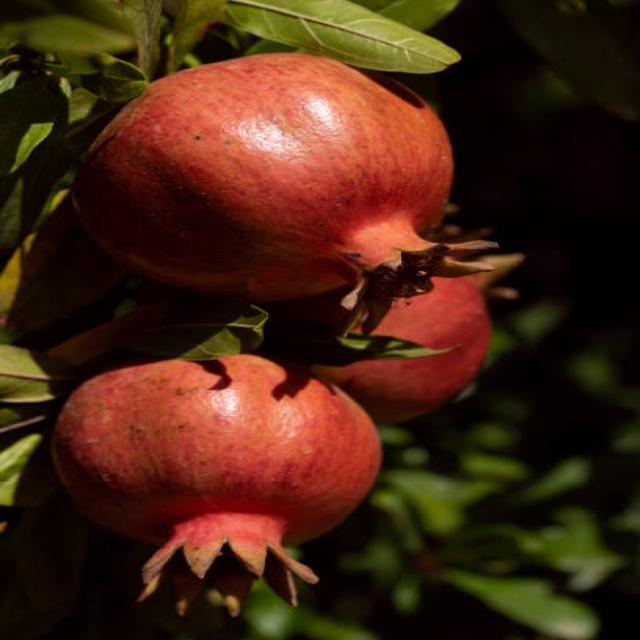Ripe: (63, 49, 486, 312), (39, 348, 387, 620)
